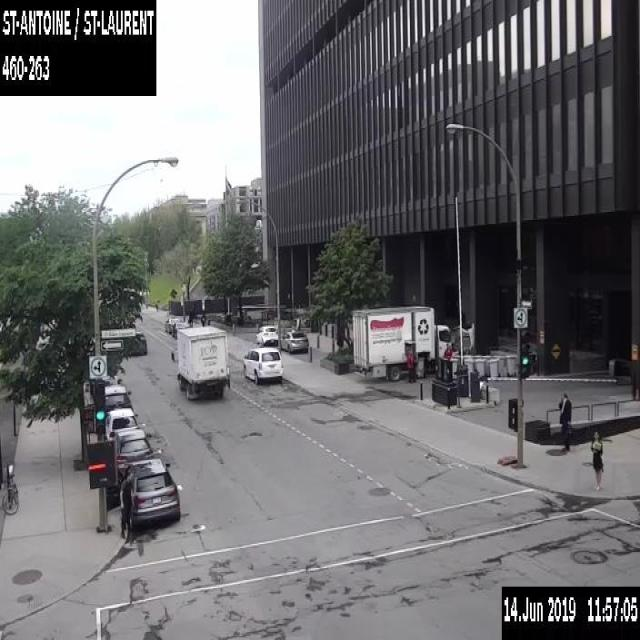pedestrian: (119, 468, 134, 538), (558, 390, 571, 450), (590, 428, 602, 491), (406, 347, 416, 382), (443, 342, 453, 358), (187, 306, 193, 326), (200, 311, 206, 325)
vehicle: (351, 304, 452, 381), (117, 457, 180, 528), (171, 324, 229, 400), (115, 428, 154, 480), (242, 345, 283, 383), (105, 407, 138, 440), (104, 383, 132, 413), (280, 330, 308, 352), (255, 324, 278, 346), (171, 321, 189, 338), (164, 317, 180, 333)
